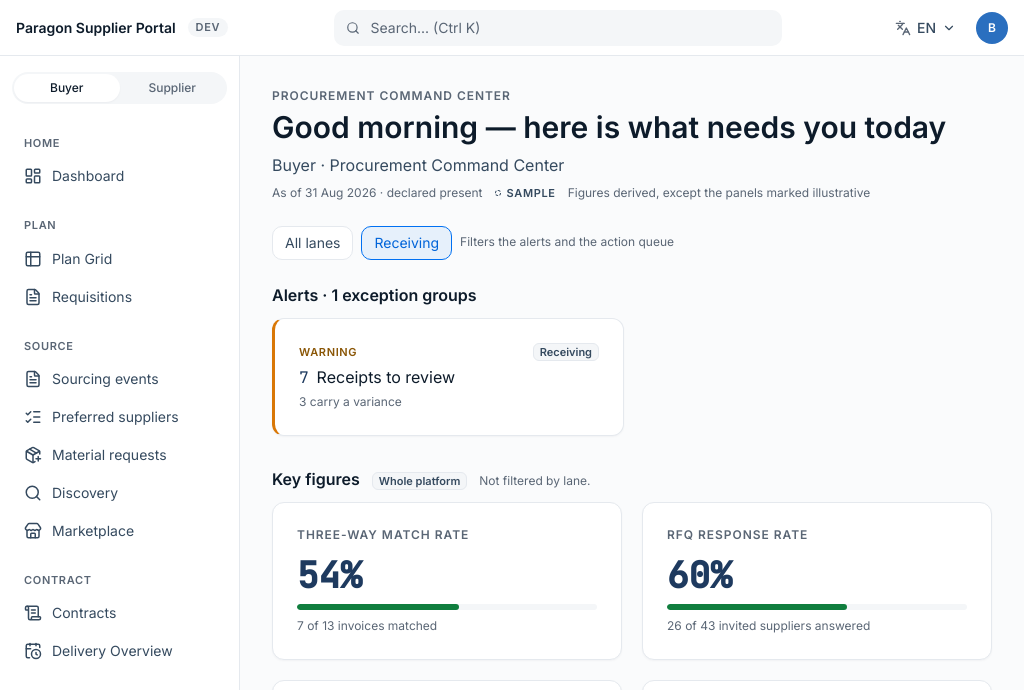
⚠️ THE ACTION QUEUE — lanes, filtering and handoff › a receiving-only seat sees its own row un-handed-off
This screenshot has width=1024, height=690.
Check: the heading "Good morning — here is what needs you today" is shown, box x1=272 y1=109 x2=946 y2=145
Click the button with test id "lane-chip-all" at coordinates (313, 243), box x1=272 y1=226 x2=354 y2=260
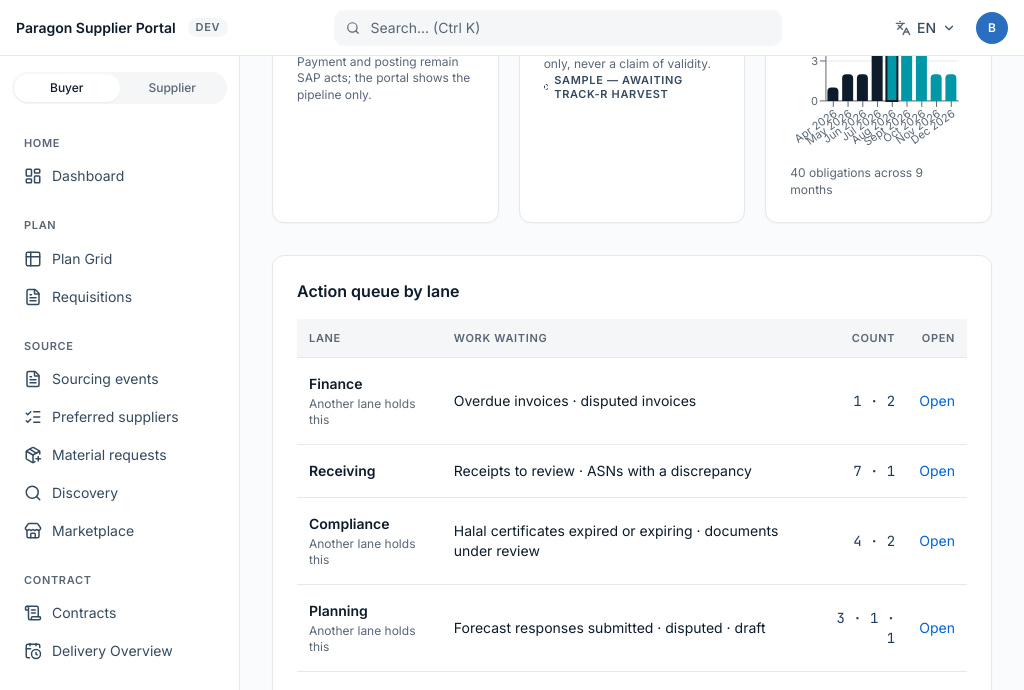
Check: the text with test id "handoff-finance" is shown, box x1=309 y1=396 x2=430 y2=428
